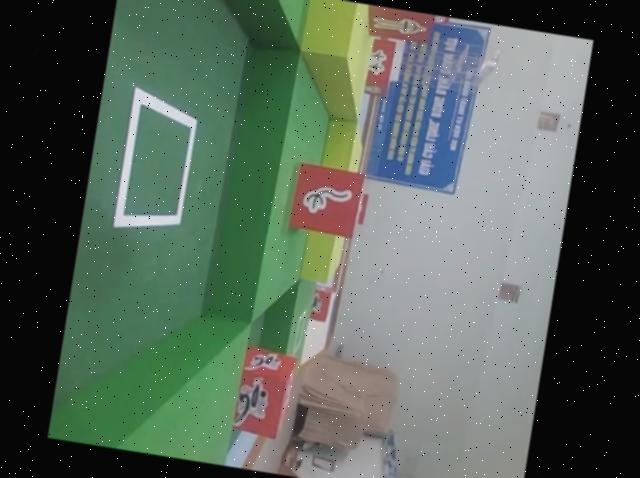R1: (225, 343, 302, 448)
R2 Fake: (361, 4, 441, 46)
R2 Real: (286, 161, 368, 239)
